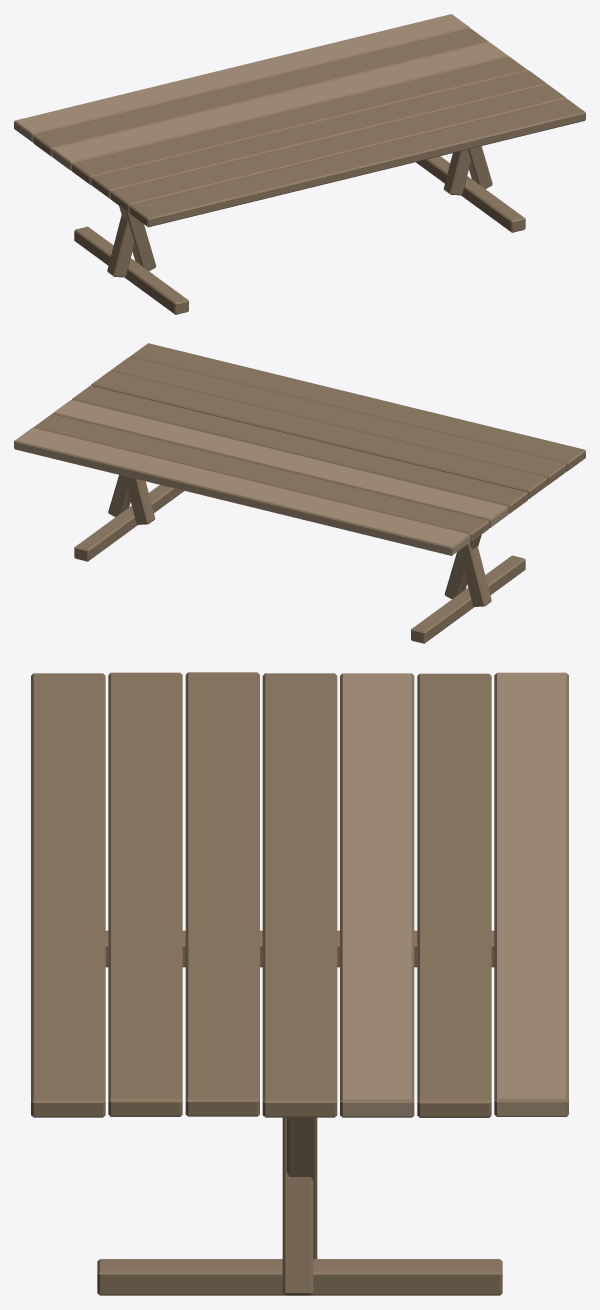
Rendered from table_big_2.glb.
3 views of the same model, one above another, from view 1: azimuth 30°, elevation 25°; view 2: azimuth 150°, elevation 25°; view 3: azimuth 270°, elevation 25° (orthographic). The views are drawn at different scales.
Visible parts, largest first — view 1: Table_Big_2; view 2: Table_Big_2; view 3: Table_Big_2.
Boxes of the visible parts, x1,y1,x2,y2 form: Table_Big_2: (14, 14, 585, 314); Table_Big_2: (14, 343, 585, 643); Table_Big_2: (31, 672, 568, 1295).
Size of the model in its own units: 3 by 0.784 by 1.59.
